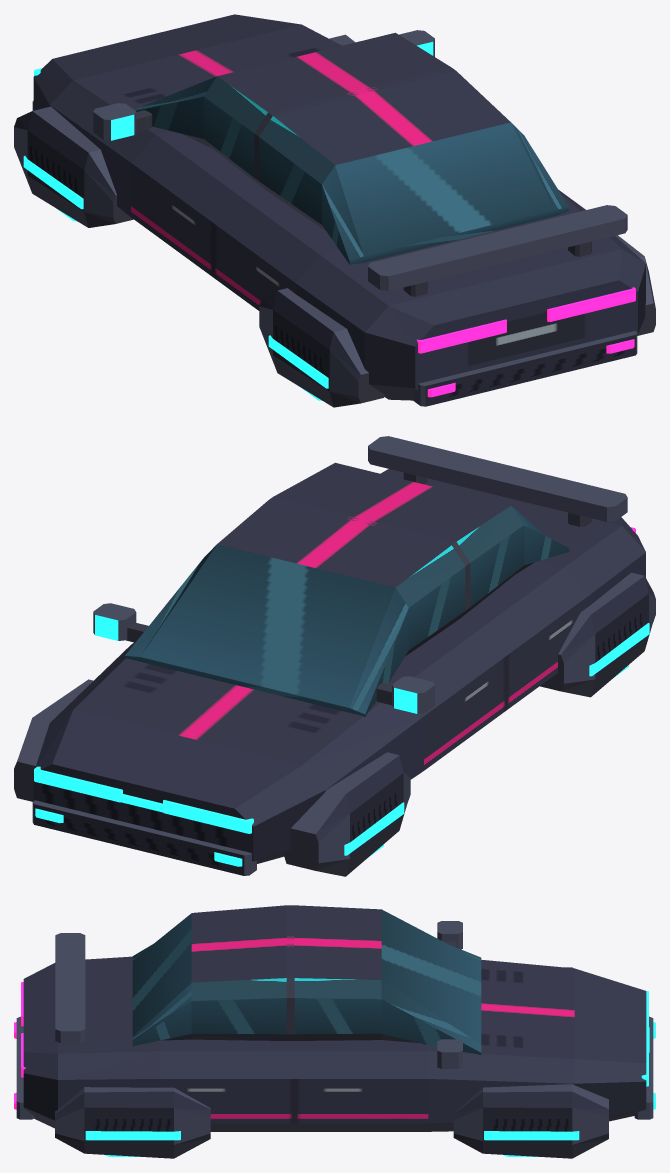
File: midnight_sport.glb
3 views of the same model, one above another, from view 1: azimuth 30°, elevation 25°; view 2: azimuth 150°, elevation 25°; view 3: azimuth 270°, elevation 25° (orthographic). The views are drawn at different scales.
Parts seen in each view (by area): view 1: hull, cab_glazing, tail_wing, rear_pod_l, front_pod_l, bumper, mirror, rear_lens, rear_lens.001, rear_pod_r, induction_strip, induction_strip.001; view 2: hull, cab_glazing, front_pod_l, tail_wing, rear_pod_l, bumper.001, front_pod_r, mirror, mirror.001, headlamp, headlamp.001, induction_strip (+1 smaller); view 3: hull, cab_glazing, front_pod_r, rear_pod_r, tail_wing, induction_strip.002, induction_strip.003, mirror.001, bumper, bumper.001, mirror.
Part boxes in pixels (x1,y1,x2,y2): hull: [33, 14, 645, 400]; cab_glazing: [134, 32, 569, 264]; tail_wing: [368, 205, 627, 290]; rear_pod_l: [259, 288, 384, 407]; front_pod_l: [14, 106, 133, 227]; bumper: [413, 331, 637, 406]; mirror: [93, 103, 136, 140]; rear_lens: [417, 319, 506, 353]; rear_lens.001: [547, 287, 635, 321]; rear_pod_r: [615, 235, 655, 335]; induction_strip: [268, 335, 328, 388]; induction_strip.001: [23, 156, 83, 209]; hull: [33, 469, 645, 863]; cab_glazing: [125, 462, 569, 717]; front_pod_l: [283, 752, 410, 876]; tail_wing: [368, 436, 627, 521]; rear_pod_l: [540, 572, 655, 697]; bumper.001: [32, 800, 256, 875]; front_pod_r: [14, 679, 93, 801]; mirror: [392, 676, 434, 713]; mirror.001: [93, 603, 136, 640]; headlamp: [163, 800, 253, 833]; headlamp.001: [34, 766, 122, 802]; induction_strip: [589, 623, 649, 676]; hull: [23, 956, 646, 1131]; cab_glazing: [132, 905, 481, 1054]; front_pod_r: [453, 1084, 608, 1158]; rear_pod_r: [55, 1087, 210, 1158]; tail_wing: [55, 933, 85, 1043]; induction_strip.002: [85, 1131, 180, 1140]; induction_strip.003: [484, 1131, 579, 1140]; mirror.001: [437, 1039, 462, 1068]; bumper: [16, 1016, 34, 1119]; bumper.001: [634, 1016, 653, 1119]; mirror: [437, 921, 462, 949].
Bounding box in the file's own units: 2.18 × 1.2 × 4.51.
Materials: 3 (3 with a texture image).
